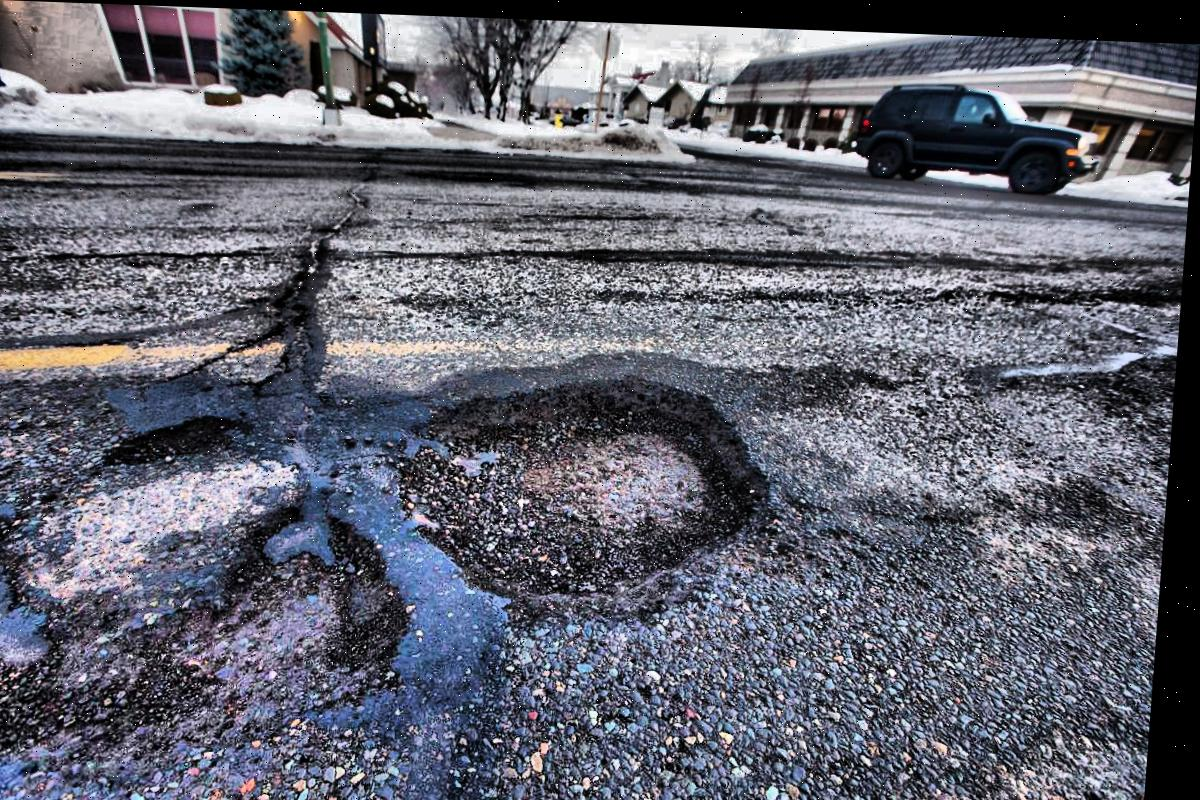pothole: (0, 392, 383, 766), (376, 354, 797, 638)
